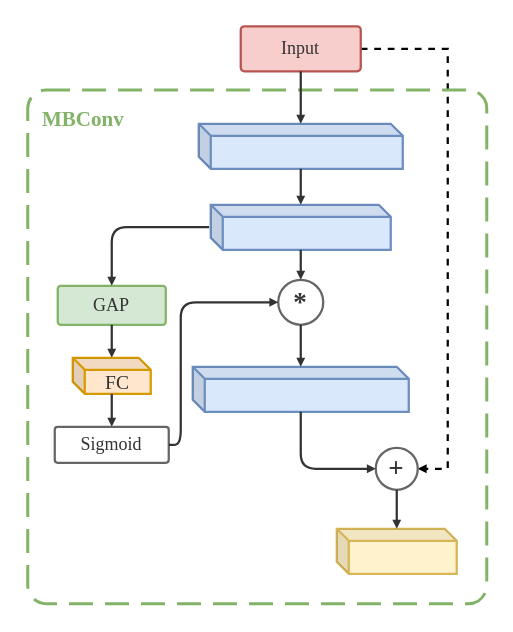
Image size: 513x632. Some labels were removed from this diagram. The shapes that lost their labels are listed below. From the top down, each one's box as (x1, y1, x2, y2) in pixels, then its label:
(197, 122, 403, 169): Conv 1x1 Expand
(209, 203, 391, 250): DW Conv 3x3
(191, 365, 409, 412): Conv 1x1 Project
(335, 527, 457, 574): Output
